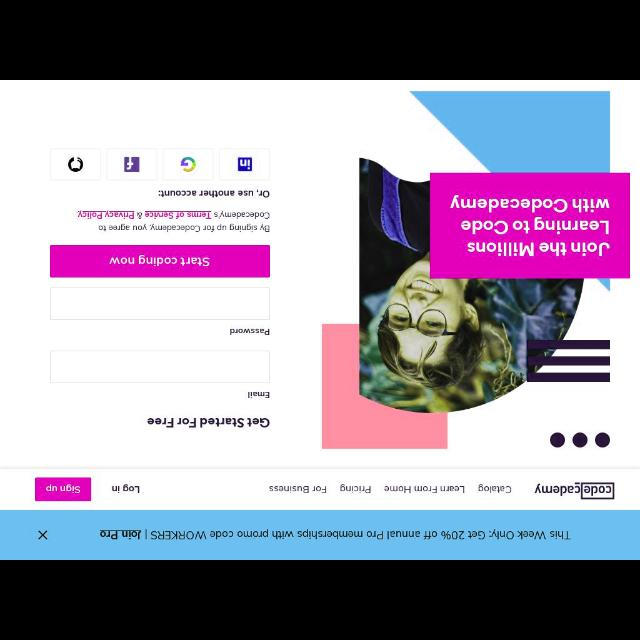iframe: (1, 508, 640, 560)
image: (317, 94, 633, 460), (532, 480, 616, 502), (124, 156, 140, 172), (182, 156, 196, 172), (68, 157, 82, 171), (238, 157, 252, 170)
input: (51, 284, 267, 318), (39, 320, 274, 350), (50, 352, 268, 384), (46, 384, 274, 410)
link: (144, 210, 208, 220), (76, 210, 134, 220)
text: (68, 206, 272, 234), (142, 417, 278, 435), (153, 188, 273, 200), (384, 484, 466, 496), (474, 481, 516, 499), (268, 484, 328, 496), (226, 326, 270, 338), (337, 484, 373, 498), (110, 482, 144, 496), (243, 392, 270, 400)
textbutton: (50, 247, 270, 276), (34, 478, 92, 500)
toolbar: (1, 468, 636, 508)
